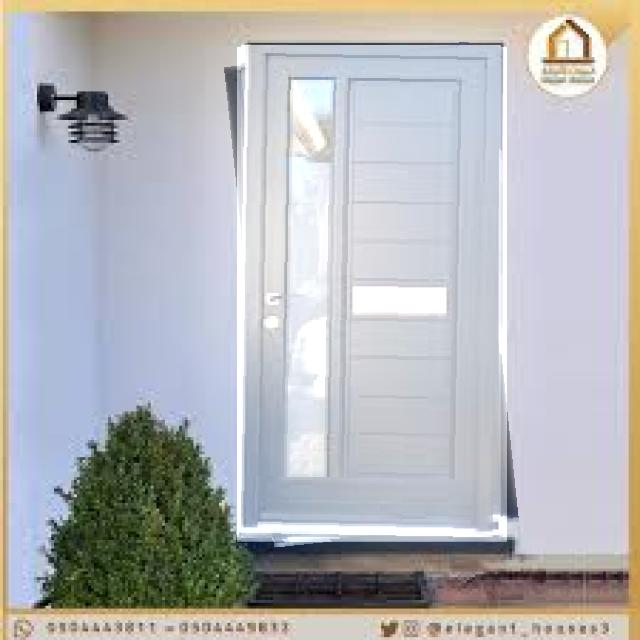doorhandle: (237, 47, 507, 542), (242, 46, 502, 542)
